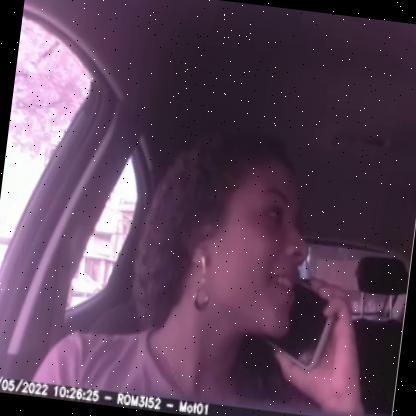phone: (257, 276, 346, 376)
